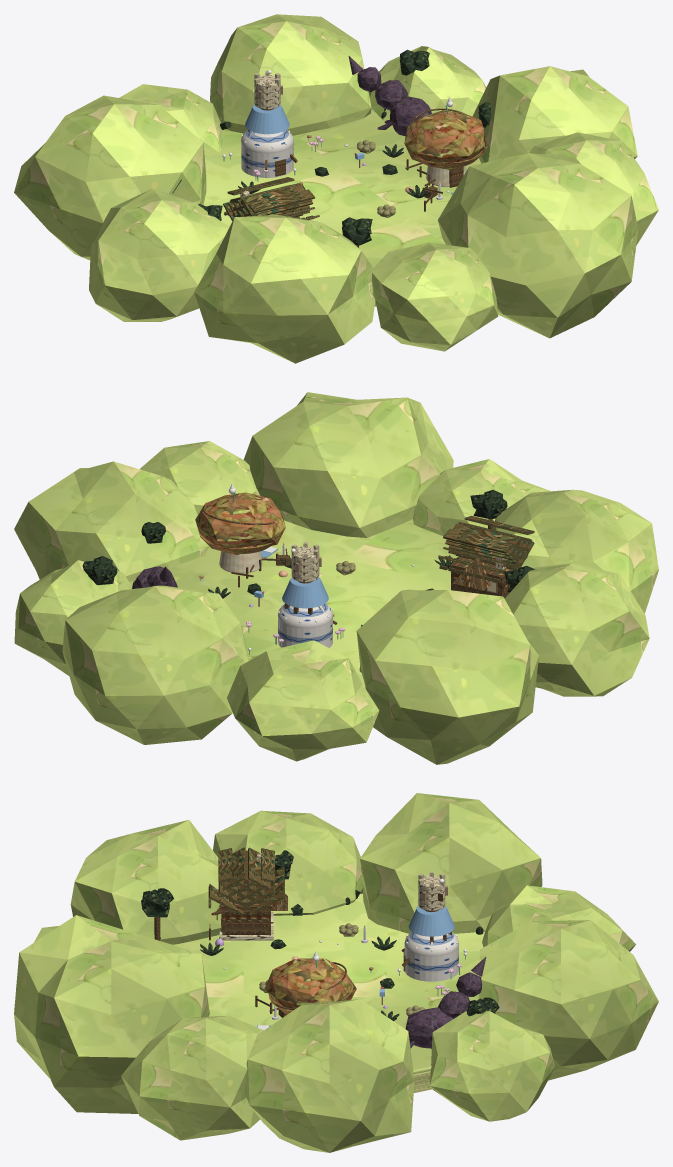
The model's file is village_textured6.glb.
The picture shows the model from 3 angles, top to bottom: view 1: azimuth 30°, elevation 25°; view 2: azimuth 150°, elevation 25°; view 3: azimuth 270°, elevation 25°; orthographic projection. The views are drawn at different scales.
Visible parts, largest first — view 1: hill_8, hill_6, hill_4, terrain_grass, hill_2, hill_5, hill_7, hill_0, hill_9, hill_1, mushroom_cap, hill_3 (+8 smaller); view 2: hill_4, hill_2, hill_8, terrain_grass, hill_0, hill_5, hill_3, hill_6, hill_1, hill_7, hill_9, mushroom_cap (+9 smaller); view 3: hill_8, hill_0, hill_2, hill_4, terrain_grass, hill_6, hill_9, hill_1, hill_5, hill_3, mushroom_cap, tower_pot (+8 smaller).
Part boxes in pixels (x1,y1,x2,y2): hill_8: (438, 153, 638, 338); hill_6: (194, 213, 375, 363); hill_4: (14, 95, 206, 260); terrain_grass: (203, 108, 481, 267); hill_2: (210, 14, 371, 135); hill_5: (89, 188, 229, 321); hill_7: (372, 243, 498, 351); hill_0: (472, 66, 637, 163); hill_9: (529, 132, 658, 245); hill_1: (368, 46, 486, 121); mushroom_cap: (404, 110, 485, 170); hill_3: (119, 84, 224, 156); hill_4: (356, 589, 538, 764); hill_2: (62, 585, 248, 744); hill_8: (243, 392, 453, 537); terrain_grass: (129, 519, 458, 670); hill_0: (14, 461, 209, 581); hill_5: (504, 563, 649, 696); hill_3: (227, 640, 379, 761); hill_6: (492, 489, 658, 613); hill_1: (14, 560, 132, 675); hill_7: (413, 459, 550, 535); hill_9: (139, 441, 259, 514); mushroom_cap: (195, 492, 285, 554); hill_8: (14, 915, 209, 1113); hill_0: (244, 999, 414, 1152); hill_2: (479, 920, 658, 1080); hill_4: (360, 793, 542, 933); terrain_grass: (173, 893, 484, 1074); hill_6: (70, 820, 221, 944); hill_9: (121, 1015, 263, 1140); hill_1: (430, 1010, 554, 1121); hill_5: (213, 810, 363, 915); hill_3: (482, 885, 635, 951); mushroom_cap: (264, 958, 356, 1008); tower_pot: (404, 945, 458, 981).
Bounding box in the file's own units: 41.75 × 11.86 × 40.42.
Materials: 24 (11 with a texture image).
